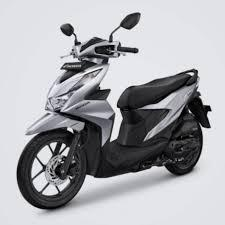motorcycle: (1, 5, 225, 225)
